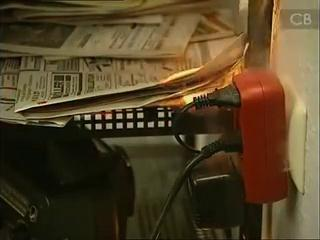Fire: (148, 1, 264, 119)
